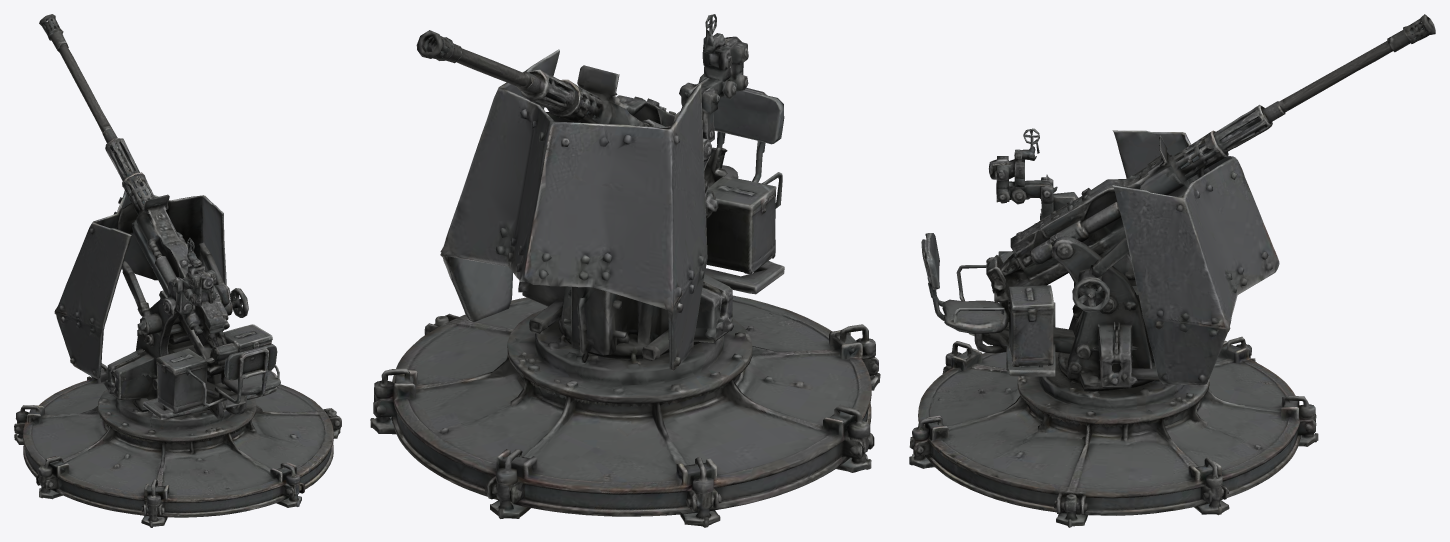
File: prop_flak.glb
The picture shows the model from 3 angles, left to right: view 1: azimuth 30°, elevation 25°; view 2: azimuth 150°, elevation 25°; view 3: azimuth 270°, elevation 25°; orthographic projection. The views are drawn at different scales.
Parts seen in each view (by area): view 1: tripo_node_5e2690c9-29c1-415a-828e-163f1d71f4ec; view 2: tripo_node_5e2690c9-29c1-415a-828e-163f1d71f4ec; view 3: tripo_node_5e2690c9-29c1-415a-828e-163f1d71f4ec.
Part boxes in pixels (x1,y1,x2,y2): tripo_node_5e2690c9-29c1-415a-828e-163f1d71f4ec: [14, 14, 341, 527]; tripo_node_5e2690c9-29c1-415a-828e-163f1d71f4ec: [370, 14, 880, 527]; tripo_node_5e2690c9-29c1-415a-828e-163f1d71f4ec: [909, 14, 1435, 527].
Bounding box in the file's own units: 0.7696 × 0.8754 × 0.9788.
1 material, 1 textured.
